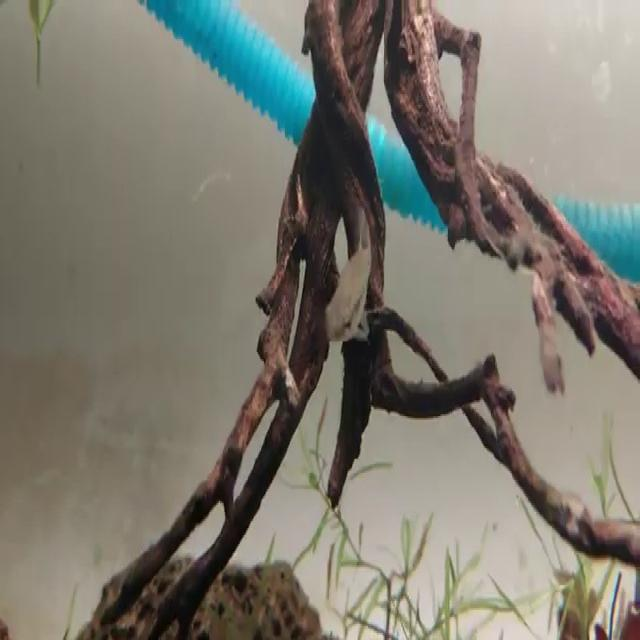Cakil Baligi: (313, 224, 393, 347)
